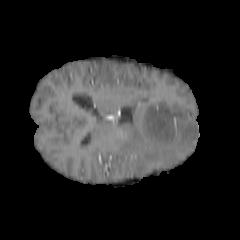glioma: (119, 108, 197, 174)
